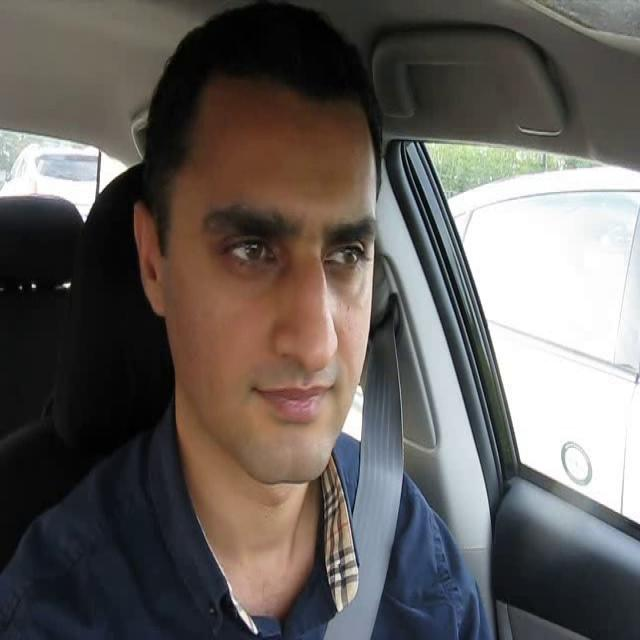close: (249, 377, 340, 421)
